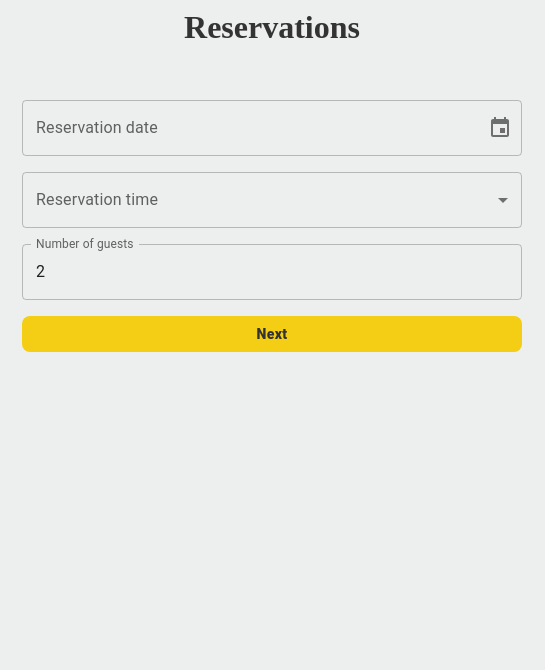
Scenario: renders available booking times in the time dropdown
The image size is (545, 670).
Press the mouse on the dropdown named "reservation time" at {"x": 272, "y": 200}, box [22, 172, 522, 228]
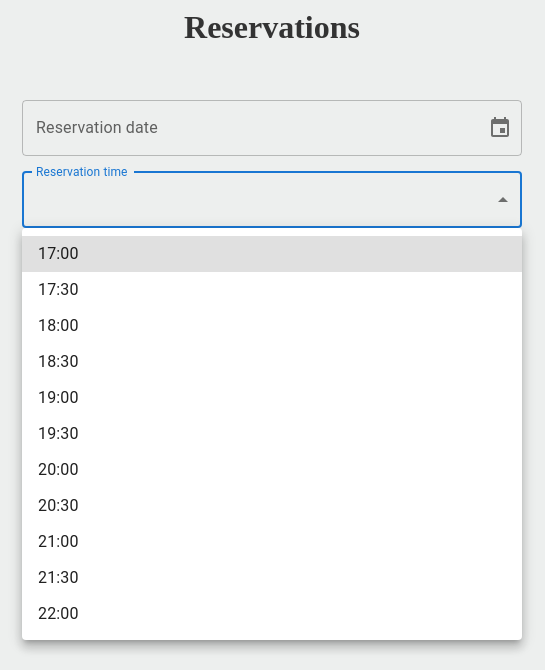
Expected: the option "17:00" is shown, [22, 236, 522, 272]
Expected: the option "17:30" is shown, [38, 280, 79, 299]
Expected: the option "18:00" is shown, [38, 316, 79, 335]
